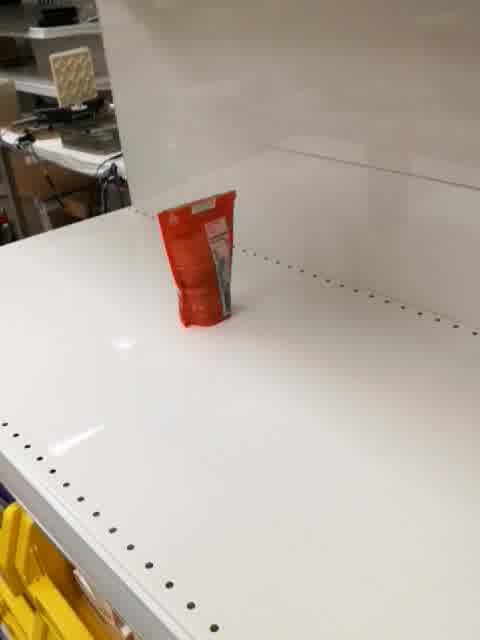whitechia: (151, 182, 240, 331)
